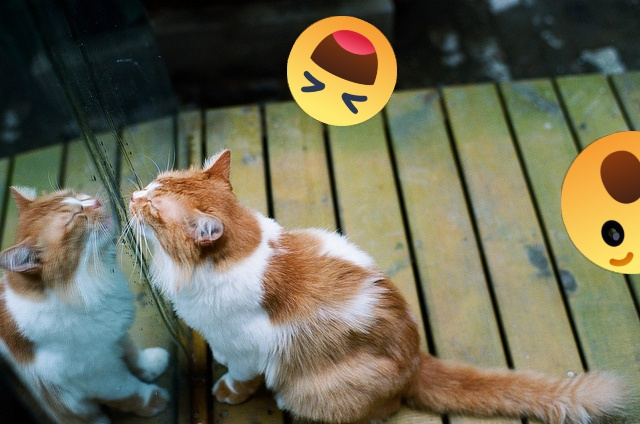haha: (287, 16, 397, 126)
wow: (561, 131, 640, 274)
